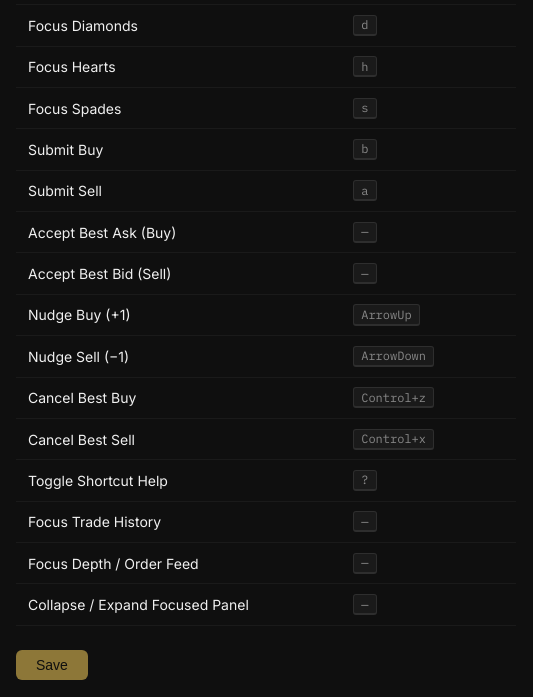
Test: KeybindSettings › Save button is disabled while saving
(page scrolled)
Step 1. Click the button "Save" → (52, 665), box [16, 650, 88, 680]
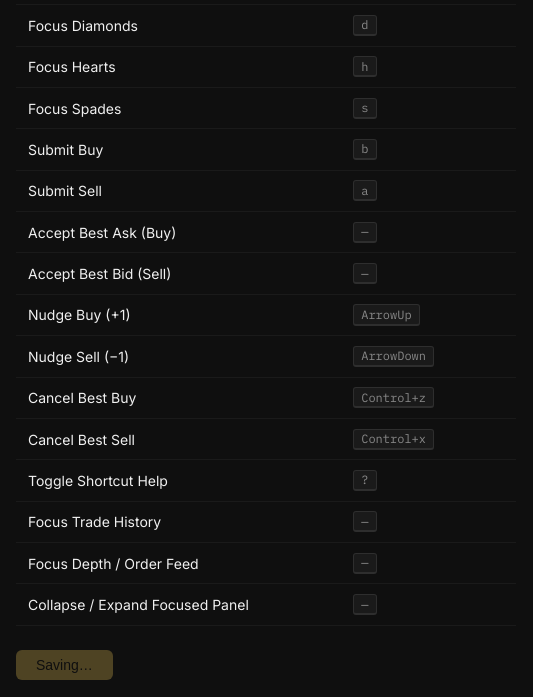
Check: the button "Saving…" is disabled, box [16, 650, 113, 680]
